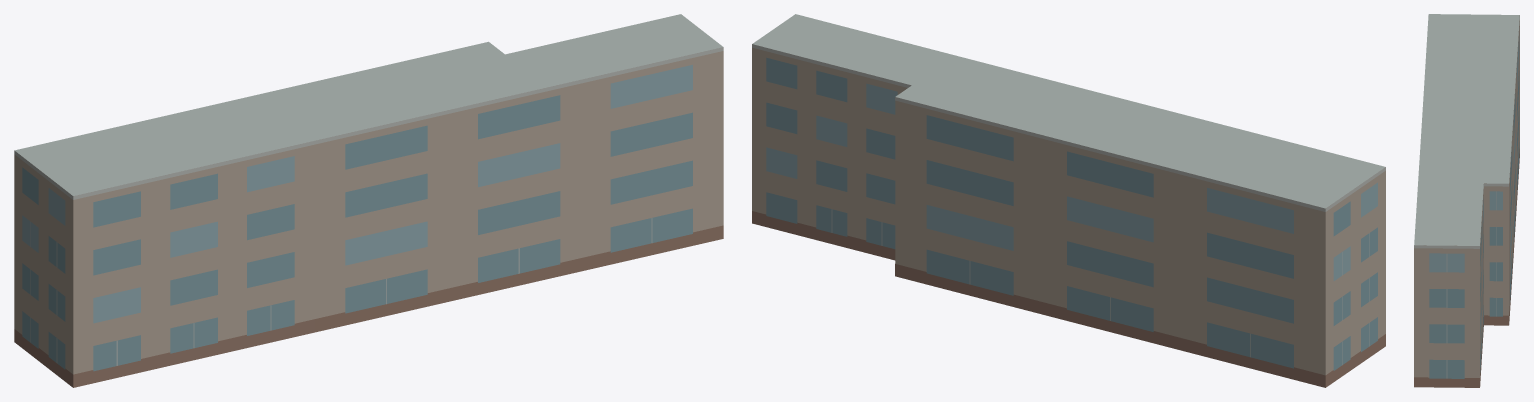
File: residential-53da3f93-5fe7-4732-88ea-ac0603832191.glb
The picture shows the model from 3 angles, left to right: view 1: azimuth 30°, elevation 25°; view 2: azimuth 150°, elevation 25°; view 3: azimuth 270°, elevation 25°; orthographic projection. The views are drawn at different scales.
Visible parts, largest first — view 1: residential-53da3f93-5fe7-4732-88ea-ac0603832191.tmp; view 2: residential-53da3f93-5fe7-4732-88ea-ac0603832191.tmp; view 3: residential-53da3f93-5fe7-4732-88ea-ac0603832191.tmp.
Part boxes in pixels (box(x1,y1,x2,y2)): residential-53da3f93-5fe7-4732-88ea-ac0603832191.tmp: box(14, 14, 723, 387); residential-53da3f93-5fe7-4732-88ea-ac0603832191.tmp: box(752, 14, 1385, 387); residential-53da3f93-5fe7-4732-88ea-ac0603832191.tmp: box(1414, 14, 1519, 387).
Bounding box in the file's own units: 42.8 × 12.2 × 8.25.
